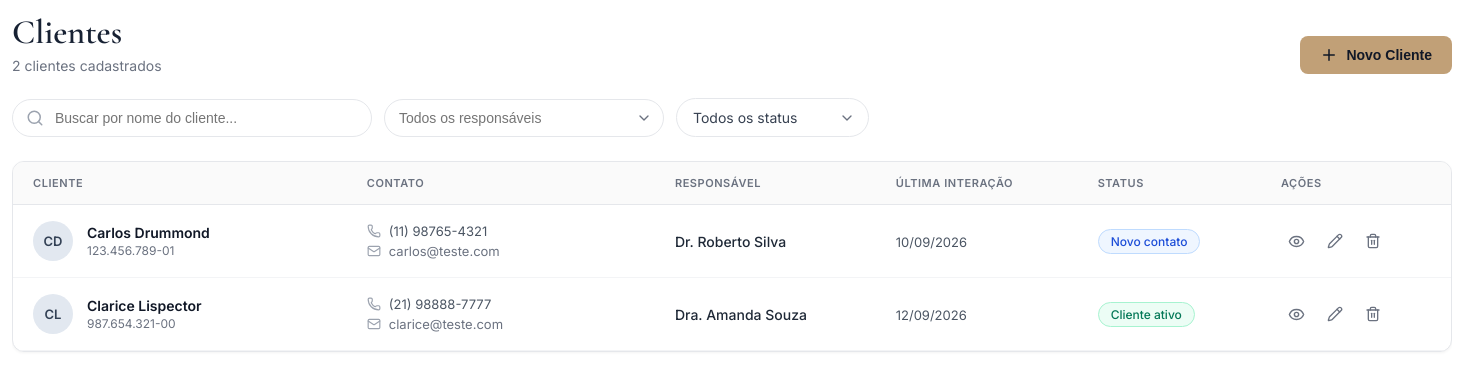
Scenario: ClientesClient › filtra clientes por responsável selecionado no autocomplete
This screenshot has width=1464, height=369.
Focus the dropdown named "Filtrar por responsável". click: (524, 118)
box: [384,98,664,136]
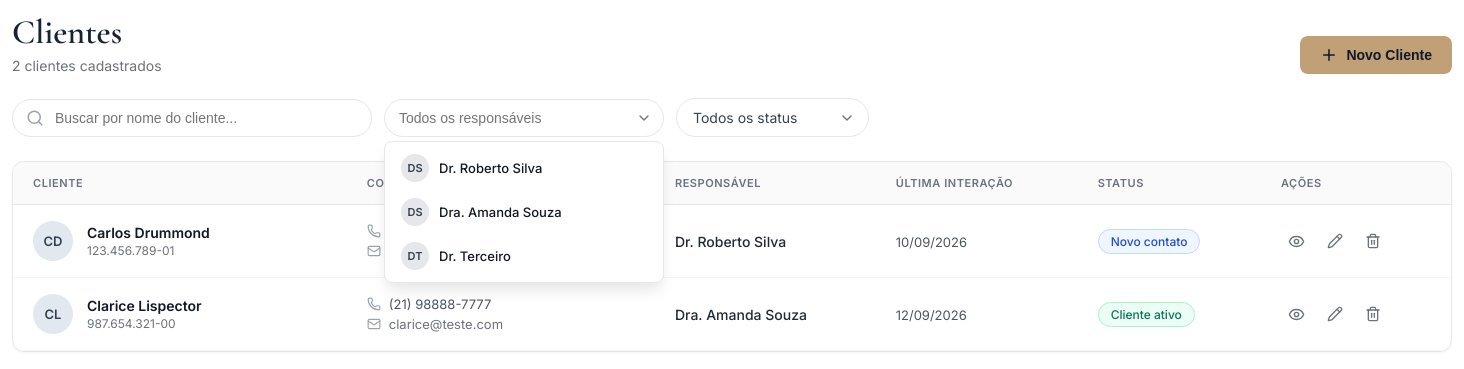
Click the option "DS Dr. Roberto Silva". click: click(472, 168)
box: [401,154,542,182]
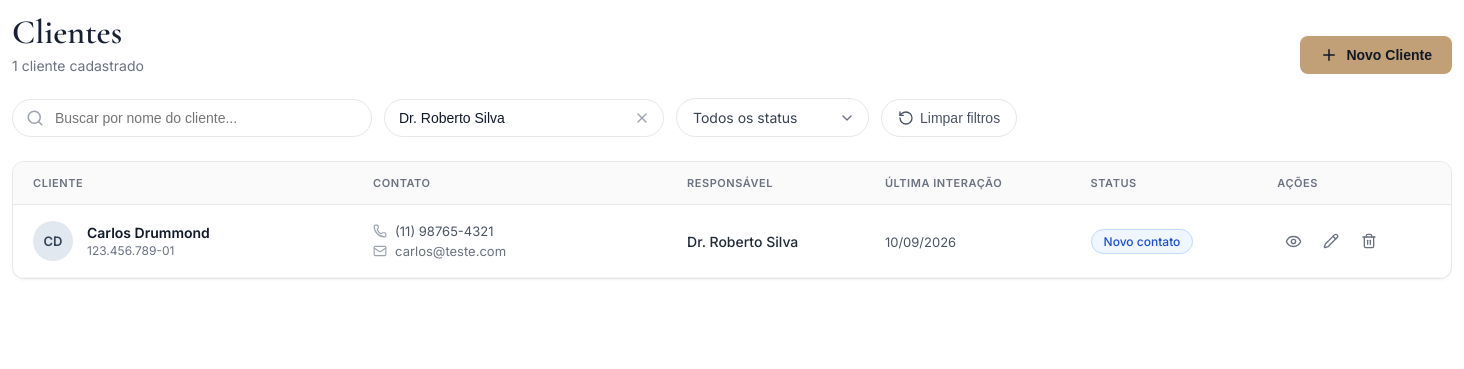
Expected: the text "Carlos Drummond" is shown, [87,224,210,241]
Expected: the text "Clarice Lispector" is gone
